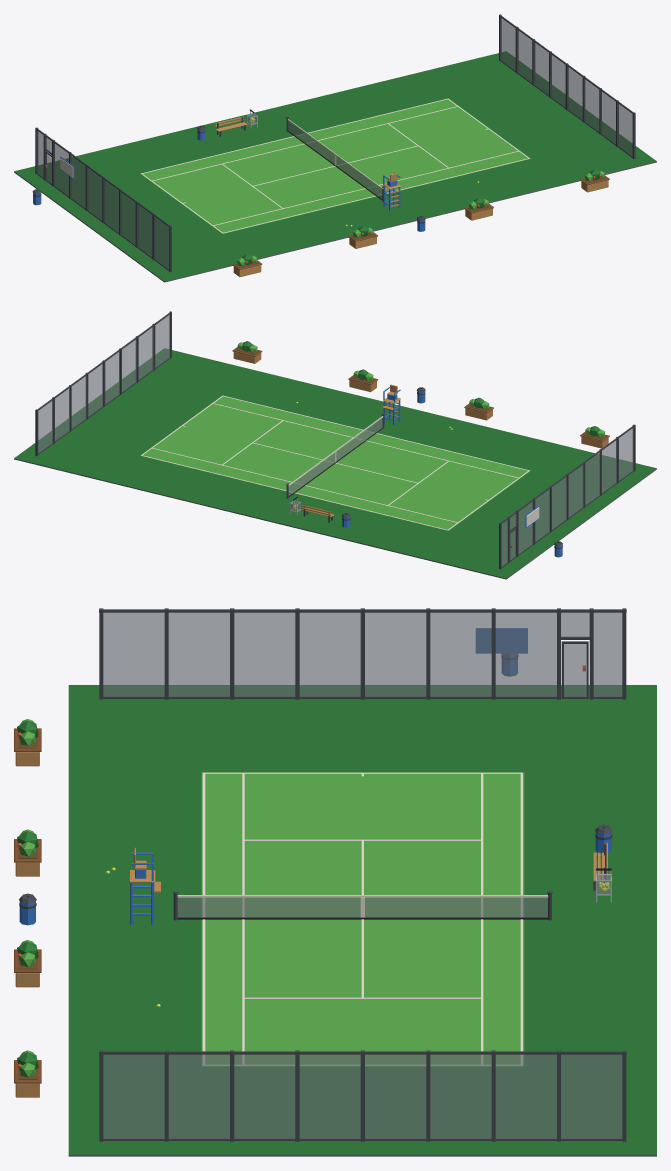
Rendered from town-tennis-court.glb.
3 renders of one model, top to bottom at view 1: azimuth 30°, elevation 25°; view 2: azimuth 150°, elevation 25°; view 3: azimuth 270°, elevation 25°, orthographic. The views are drawn at different scales.
Parts seen in each view (by area): view 1: Court_Slab, Court_Playfield, Fence_East_Mesh, Fence_West_Mesh, Court_Lines, Fence_West_Posts, Fence_East_Posts, Net_Mesh; view 2: Court_Slab, Court_Playfield, Fence_East_Mesh, Fence_West_Mesh, Court_Lines, Fence_West_Posts, Fence_East_Posts, Net_Mesh; view 3: Court_Slab, Court_Playfield, Fence_East_Mesh, Fence_West_Mesh, Net_Mesh, Court_Lines, Fence_West_Posts, Fence_East_Posts, Fence_East_RailTop, Fence_West_RailTop, Fence_East_RailBottom, Fence_West_RailBottom (+4 smaller).
Part boxes in pixels (box(x1,y1,x2,y2)): Court_Slab: box(14, 51, 656, 282); Court_Playfield: box(140, 98, 530, 233); Fence_East_Mesh: box(501, 18, 632, 156); Fence_West_Mesh: box(37, 131, 169, 269); Court_Lines: box(141, 98, 529, 233); Fence_West_Posts: box(35, 127, 171, 272); Fence_East_Posts: box(499, 14, 635, 159); Net_Mesh: box(288, 121, 382, 198); Court_Slab: box(14, 348, 656, 579); Court_Playfield: box(140, 395, 530, 530); Fence_East_Mesh: box(38, 315, 169, 453); Fence_West_Mesh: box(501, 428, 633, 566); Court_Lines: box(141, 395, 529, 530); Fence_West_Posts: box(499, 424, 635, 569); Fence_East_Posts: box(35, 311, 171, 456); Net_Mesh: box(288, 418, 382, 495); Court_Slab: box(68, 685, 656, 1156); Court_Playfield: box(201, 772, 524, 1066); Fence_East_Mesh: box(103, 1054, 622, 1138); Fence_West_Mesh: box(103, 612, 622, 696); Net_Mesh: box(177, 897, 547, 917); Court_Lines: box(202, 772, 522, 1065); Fence_West_Posts: box(99, 608, 626, 699); Fence_East_Posts: box(99, 1050, 626, 1141); Fence_East_RailTop: box(99, 1051, 626, 1054); Fence_West_RailTop: box(99, 609, 626, 612); Fence_East_RailBottom: box(103, 1138, 622, 1140); Fence_West_RailBottom: box(103, 696, 622, 698).
Bounding box in the file's own units: 141 × 12.4 × 78.7.
